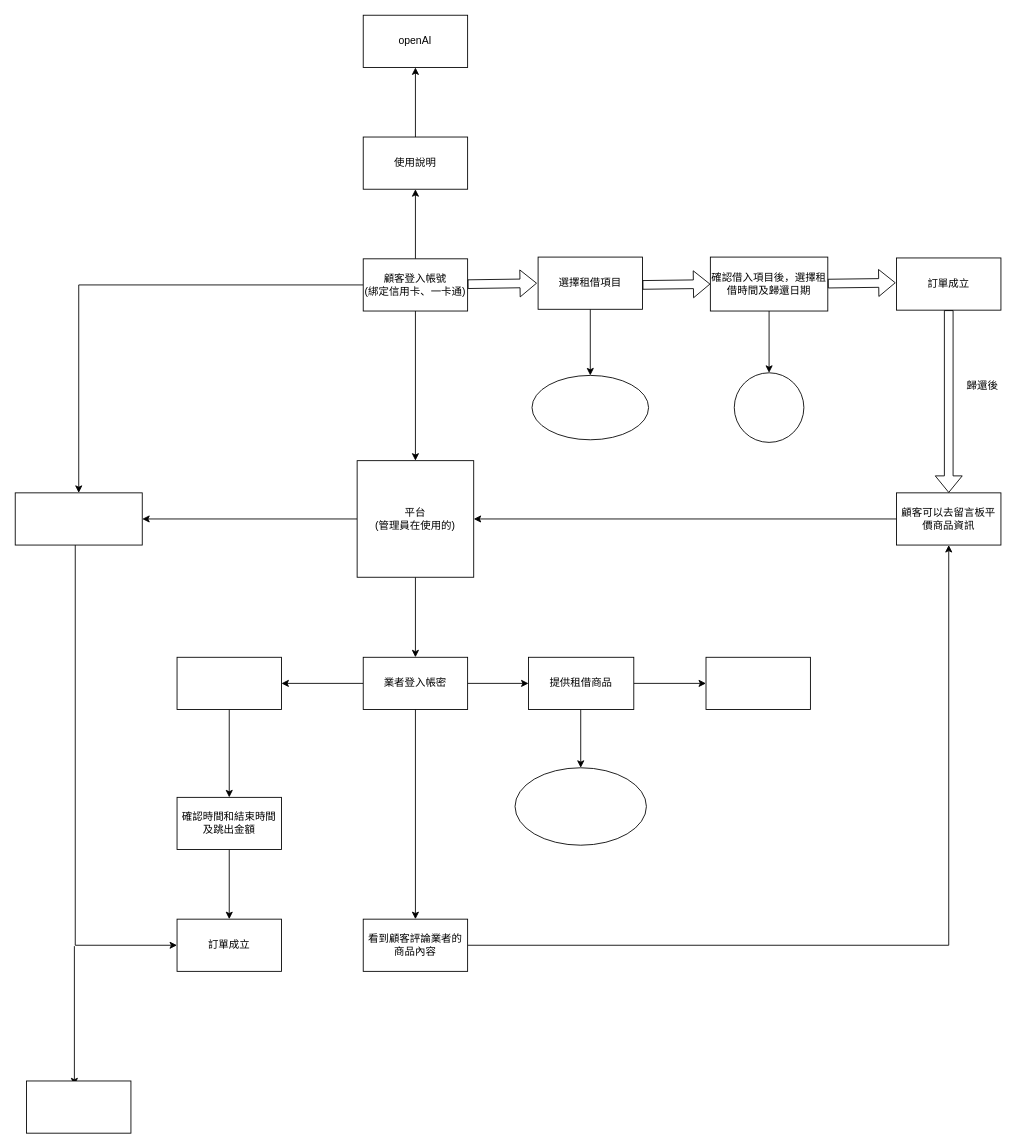
Some shapes in this 1024 by 1148 pixel diagram are drawn without their labels. Each missing label, with the box of its shape:
在畫面會順便秀出完整時間的金額: (733, 372, 804, 442)
記錄點擊次數、效益、點擊率、客戶平均年齡: (26, 1080, 131, 1133)
調整商品資料及優先順序: (705, 656, 810, 709)
購買廣告 (選擇商品種類): (176, 656, 281, 709)
跳出商品類別的資訊讓業者去勾選商品的詳細資訊: (514, 767, 646, 845)
選擇商品的時候，跳出畫面顯示個別類別的資訊: (531, 375, 649, 440)
顯示廣告在相對應畫面: (14, 492, 142, 545)
